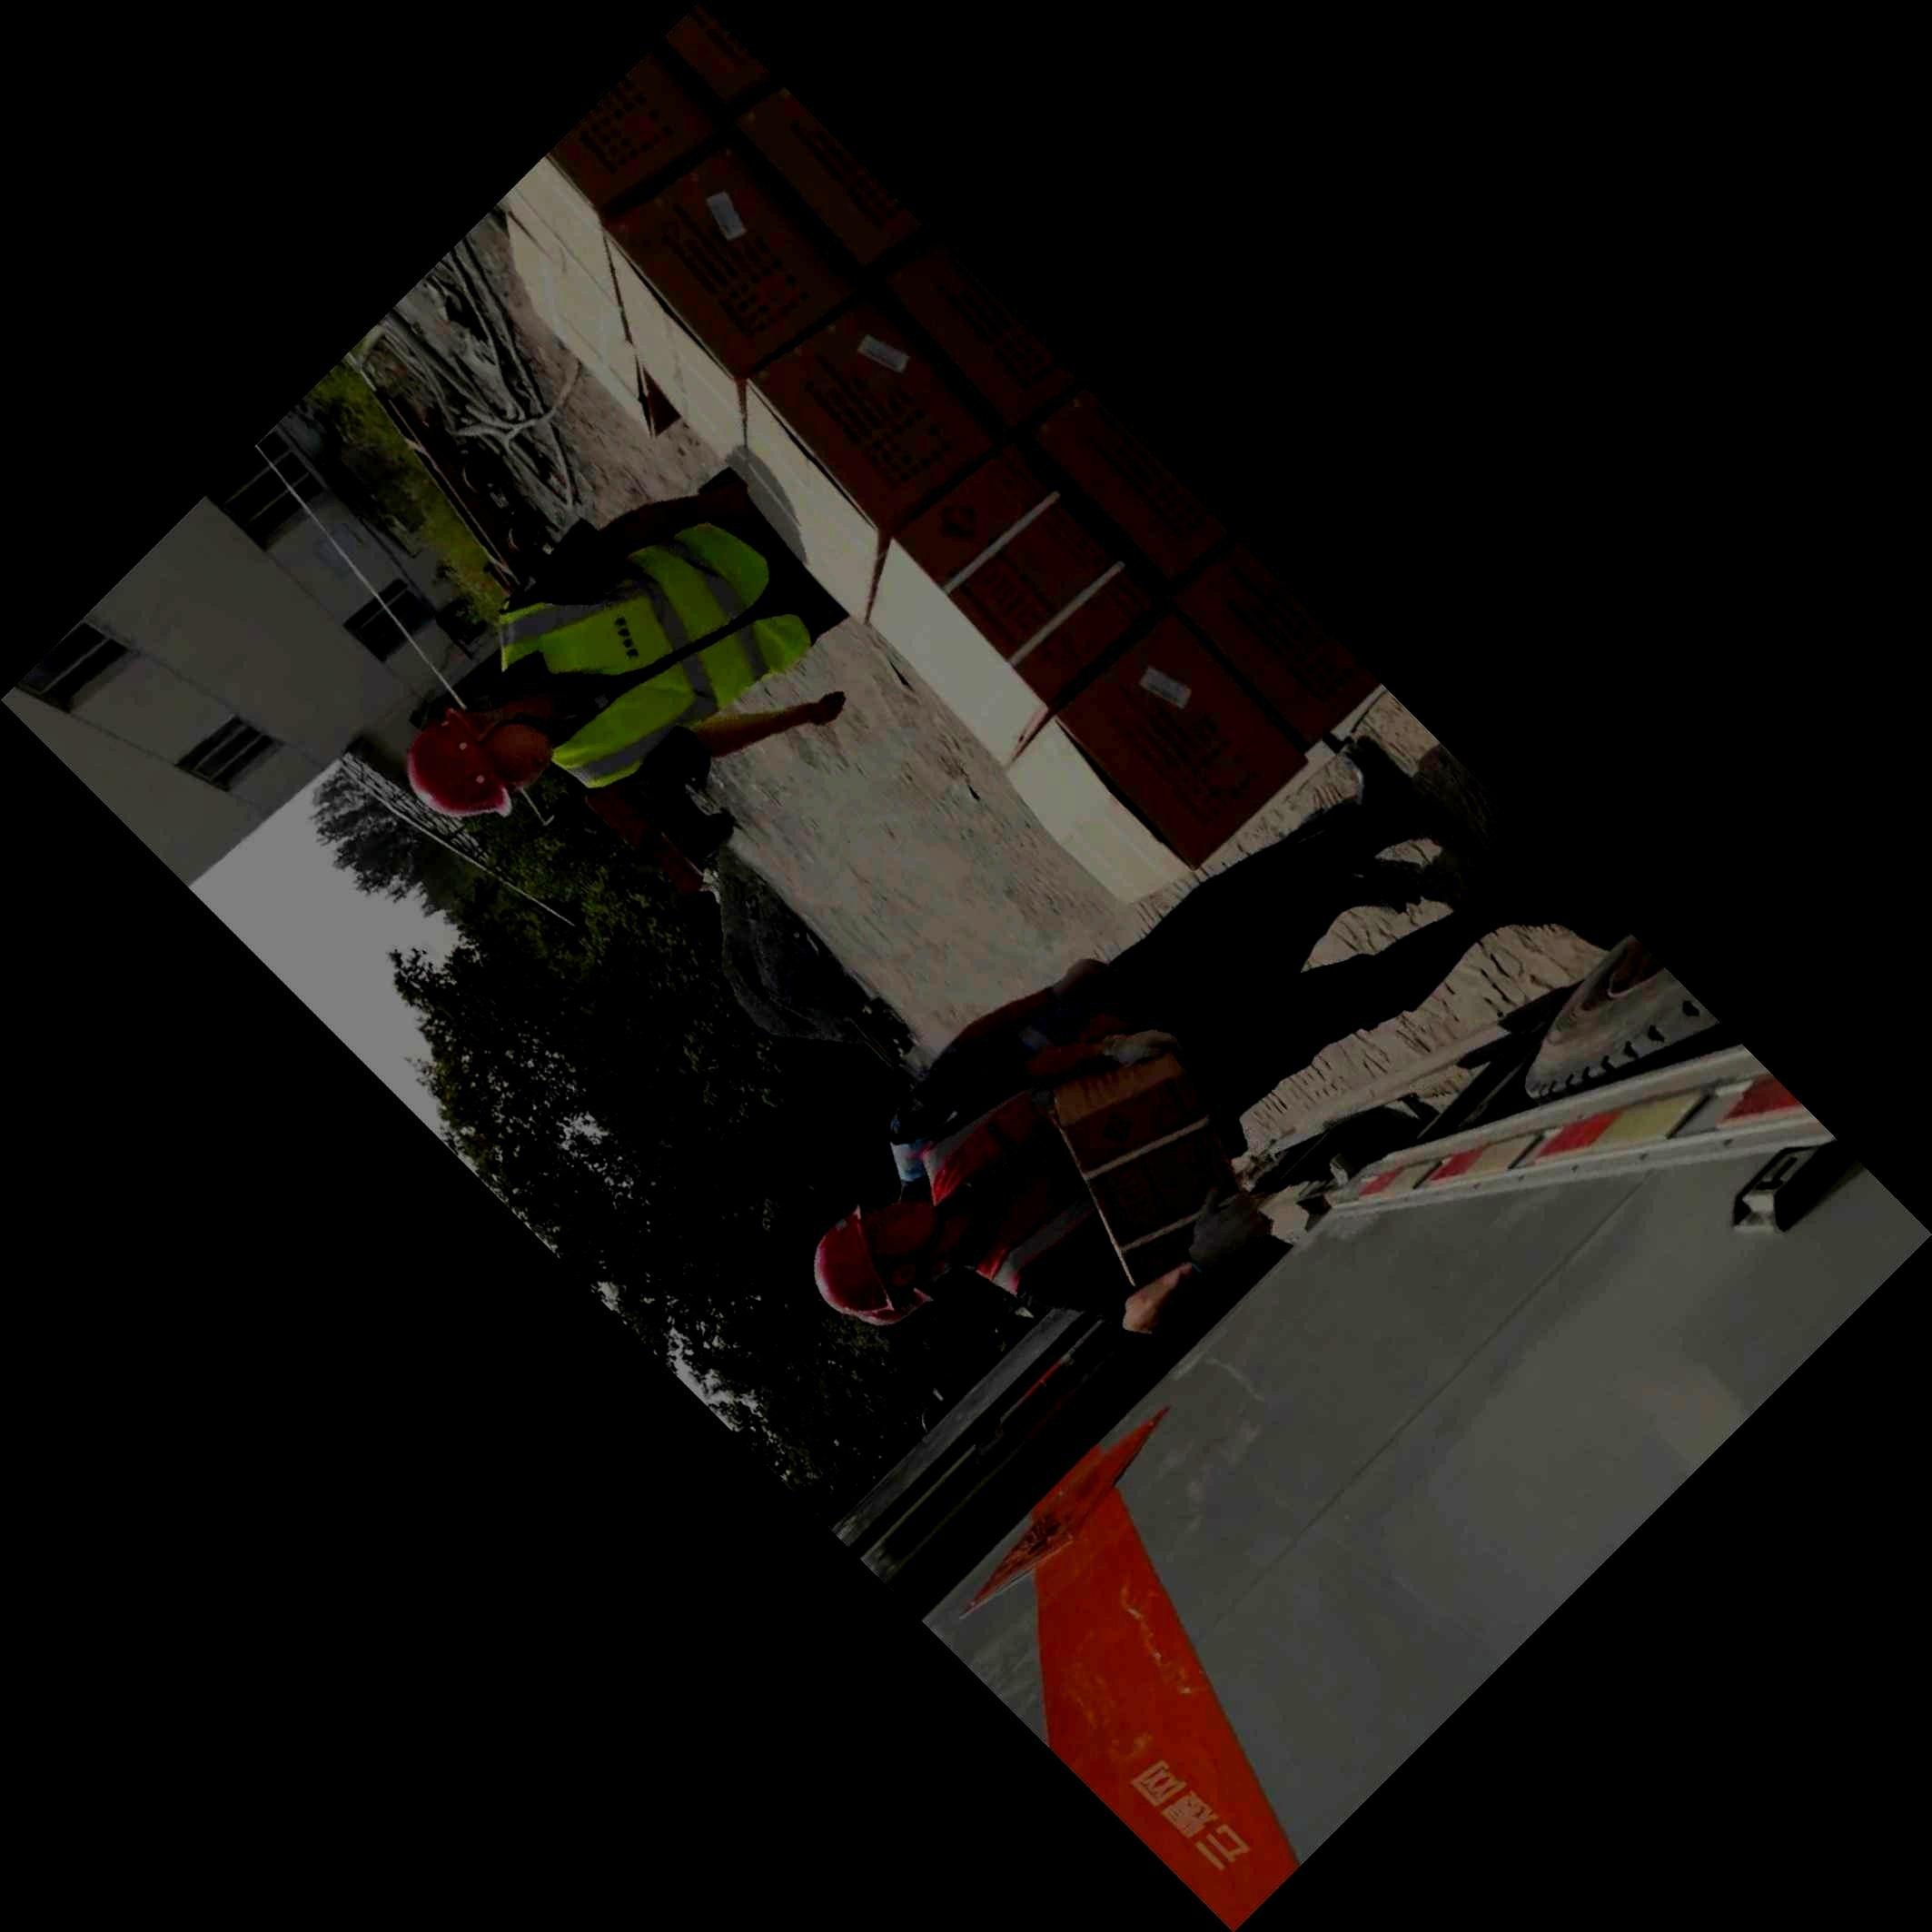helmet: (405, 704, 552, 821), (812, 1198, 936, 1315), (856, 1284, 934, 1325)
